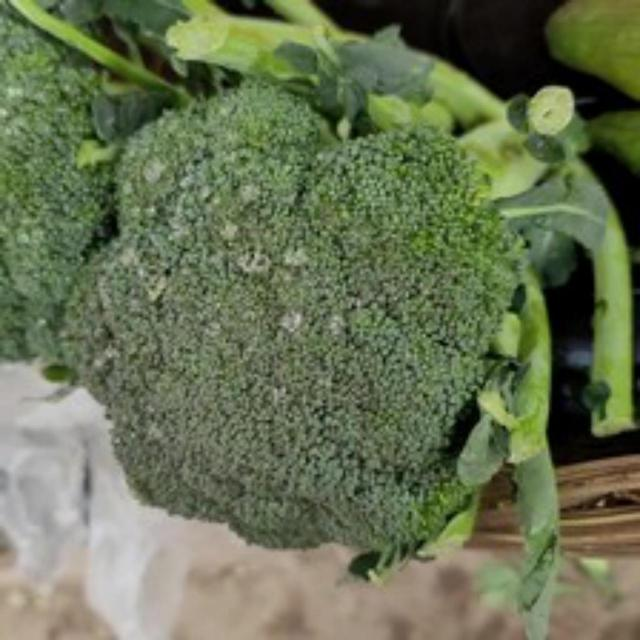broccoli: (66, 87, 532, 552)
